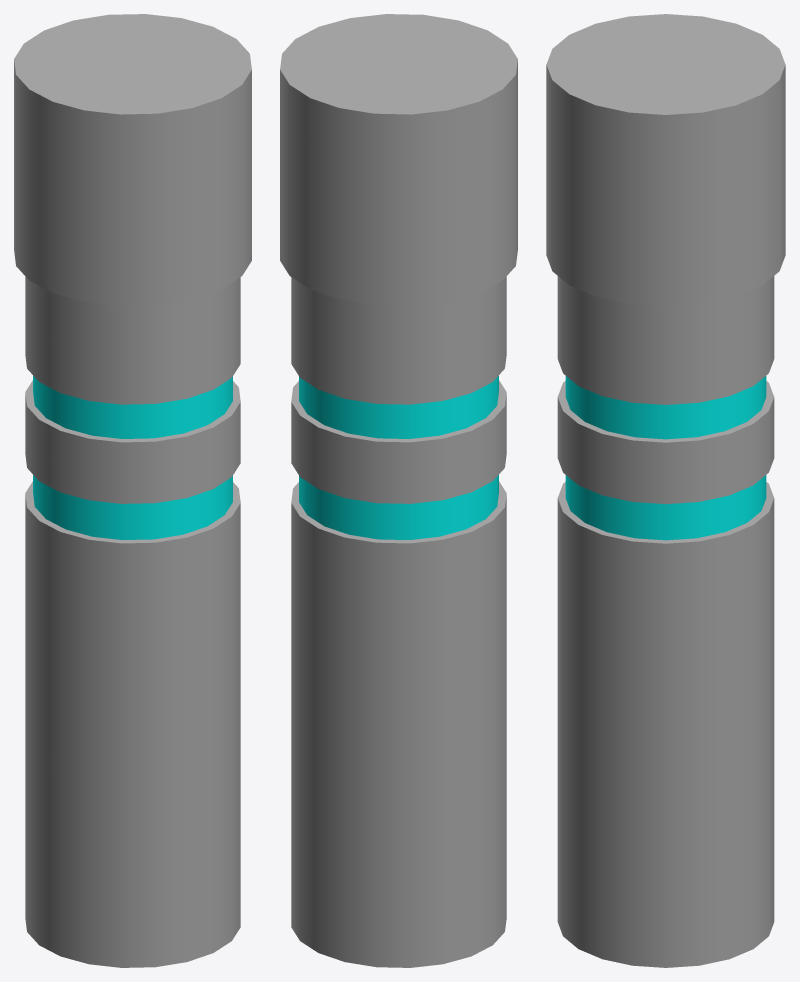
The model's file is Petit_poteau.fbx.
3 views of the same model, side by side, from view 1: azimuth 30°, elevation 25°; view 2: azimuth 150°, elevation 25°; view 3: azimuth 270°, elevation 25° (orthographic).
Visible parts, largest first — view 1: pCylinder12; view 2: pCylinder12; view 3: pCylinder12.
Part boxes in pixels (x1,y1,x2,y2): pCylinder12: [14, 14, 251, 967]; pCylinder12: [280, 14, 517, 967]; pCylinder12: [546, 14, 785, 967].
Size of the model in its own units: 21.48 by 85.06 by 21.48.
